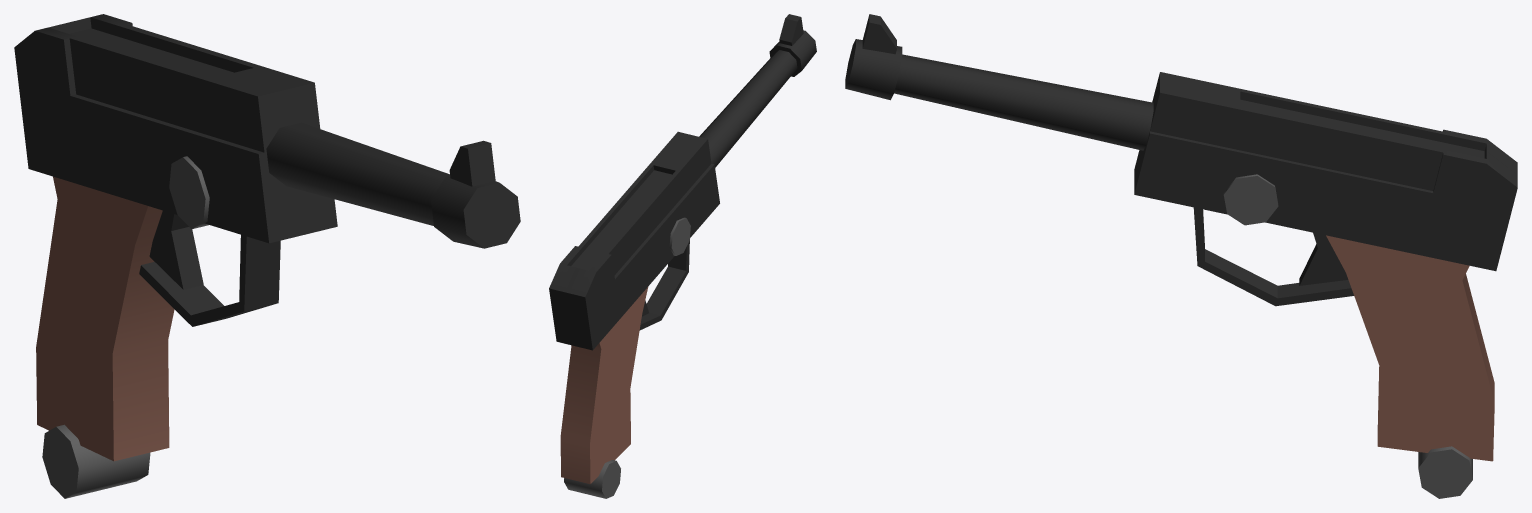
Rendered from lugar.glb.
3 views of the same model, side by side, from view 1: azimuth 30°, elevation 25°; view 2: azimuth 150°, elevation 25°; view 3: azimuth 270°, elevation 25° (orthographic). The views are drawn at different scales.
Visible parts, largest first — view 1: Lugar_Body_54, Lugar_Body_Magazine_53, Cube011_52; view 2: Lugar_Body_54, Lugar_Body_Magazine_53; view 3: Lugar_Body_54, Lugar_Body_Magazine_53, Cube011_52.
Part boxes in pixels (x1,y1,x2,y2): Lugar_Body_54: (14, 14, 520, 461); Lugar_Body_Magazine_53: (42, 424, 150, 498); Cube011_52: (149, 210, 203, 289); Lugar_Body_54: (549, 14, 816, 484); Lugar_Body_Magazine_53: (564, 460, 620, 498); Lugar_Body_54: (845, 14, 1517, 461); Lugar_Body_Magazine_53: (1418, 446, 1472, 498); Cube011_52: (1299, 232, 1348, 285).
Size of the model in its own units: 0.0741 by 0.5718 by 0.7456.
